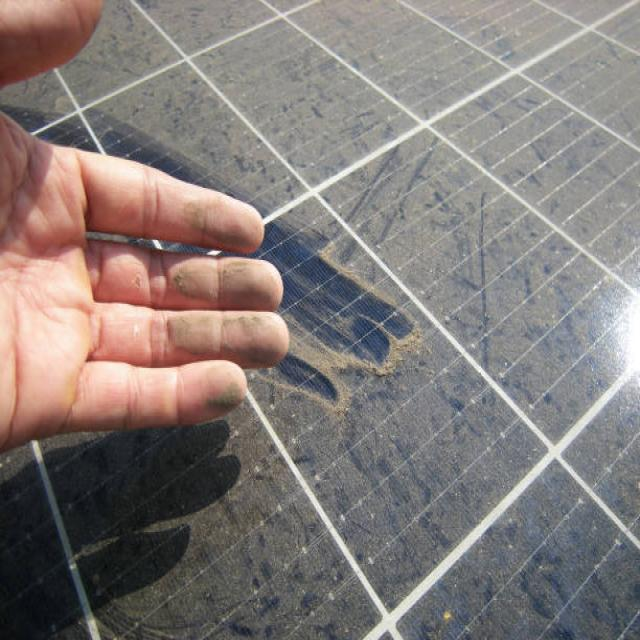dust-solar-panel: (0, 0, 640, 635)
